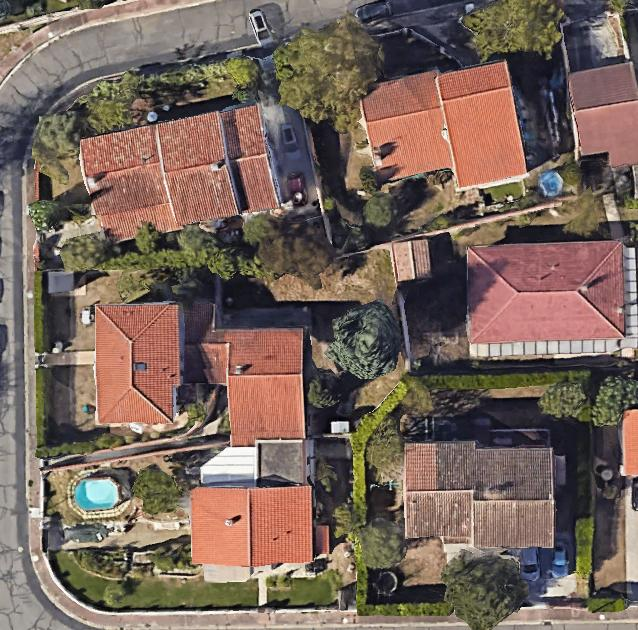maison: (74, 100, 285, 247), (355, 55, 530, 207), (184, 304, 303, 445), (404, 441, 554, 549), (468, 240, 624, 343), (190, 482, 313, 569), (96, 303, 183, 423), (569, 62, 638, 169)
